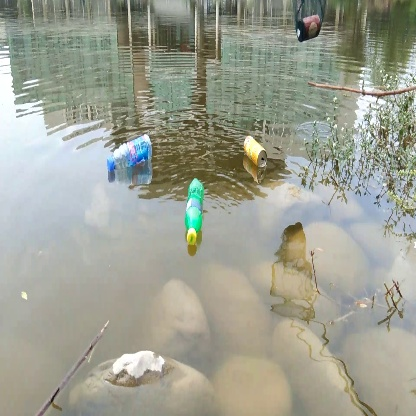bottle: (106, 131, 155, 174), (184, 177, 205, 247), (241, 133, 270, 171)
